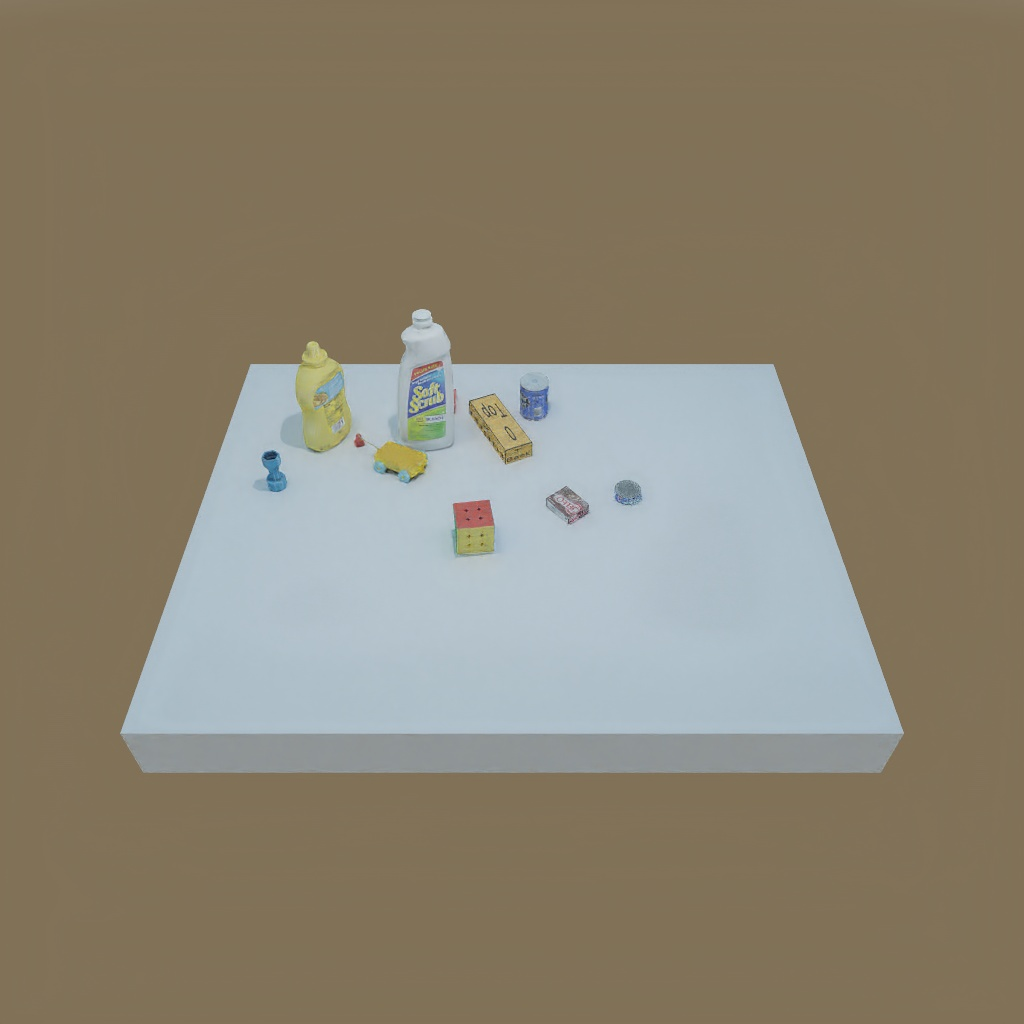jenga: (466, 393, 533, 464)
master_chef_can: (517, 374, 548, 423)
mustard_bottle: (293, 339, 354, 449)
pudding_box: (541, 483, 594, 528)
rubiks_cube: (450, 498, 499, 556)
